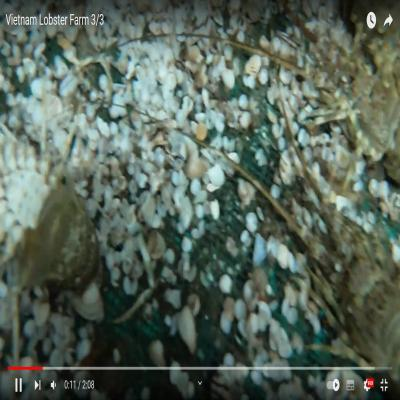lobster: (313, 34, 400, 170), (323, 206, 398, 361)
